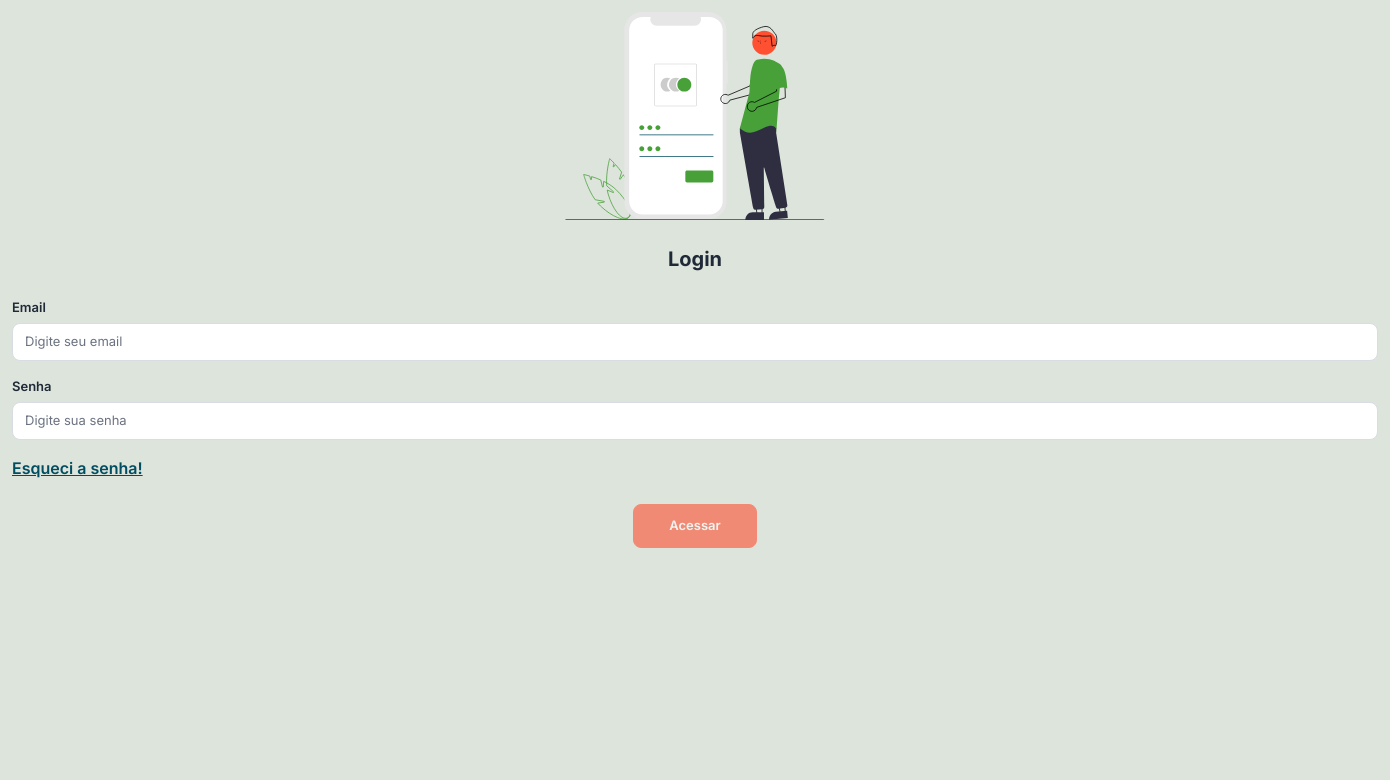
Scenario: LoginForm › fecha o alerta manualmente
Type "user@mail.com" into the field labelled "Email".
click(695, 342); type("user@mail.com")  # box left=12, top=323, right=1378, bottom=361
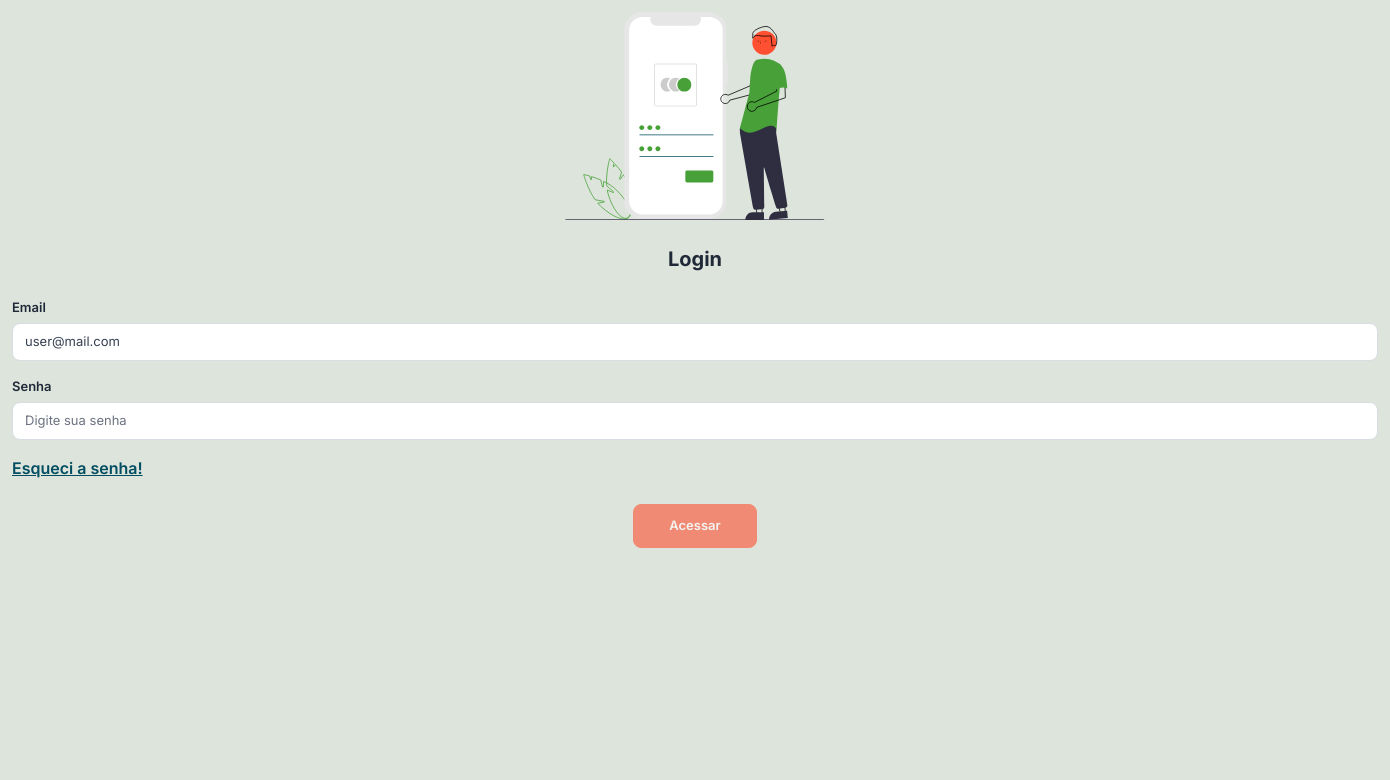
Type "12345678" into the password field labelled "Senha".
click(695, 421); type("12345678")  # box left=12, top=402, right=1378, bottom=440
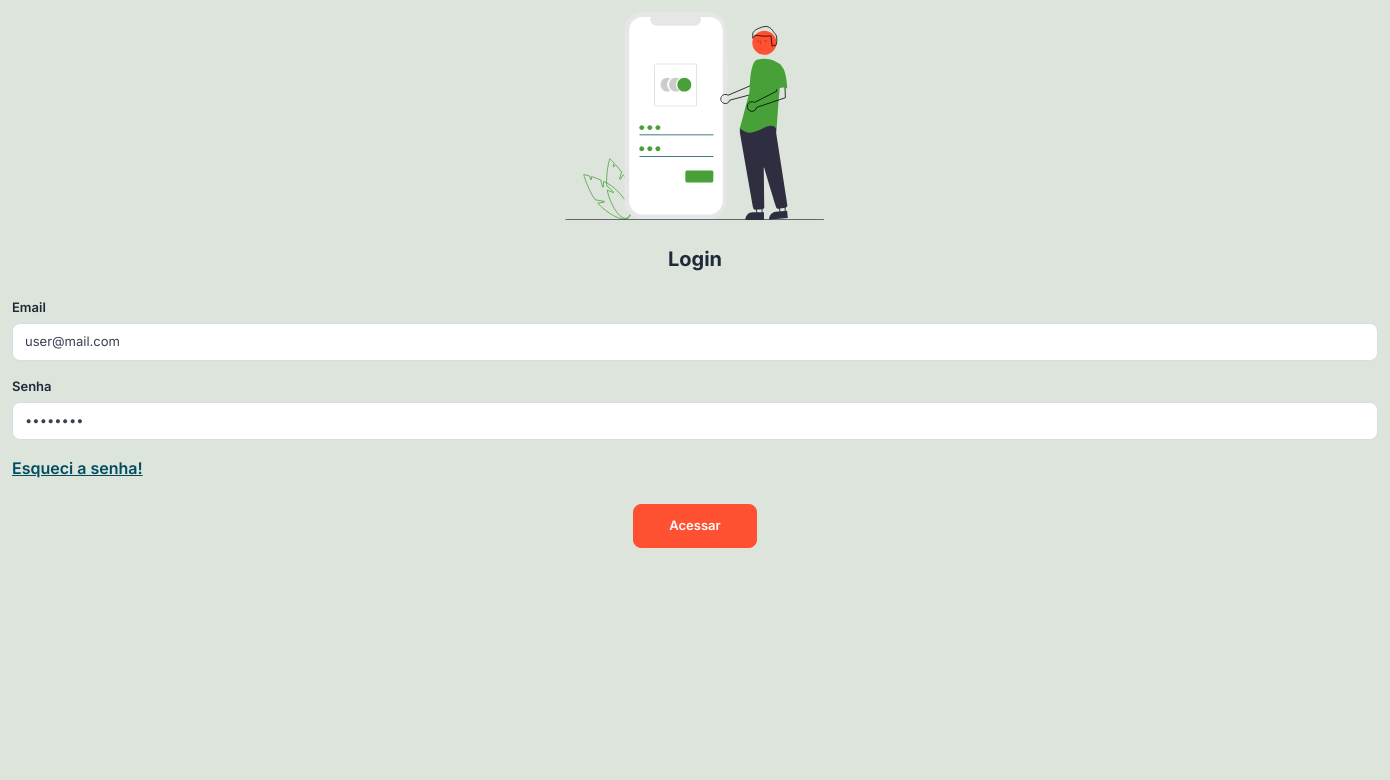
Click the button "Acessar".
click(695, 526)  # box left=633, top=504, right=757, bottom=548
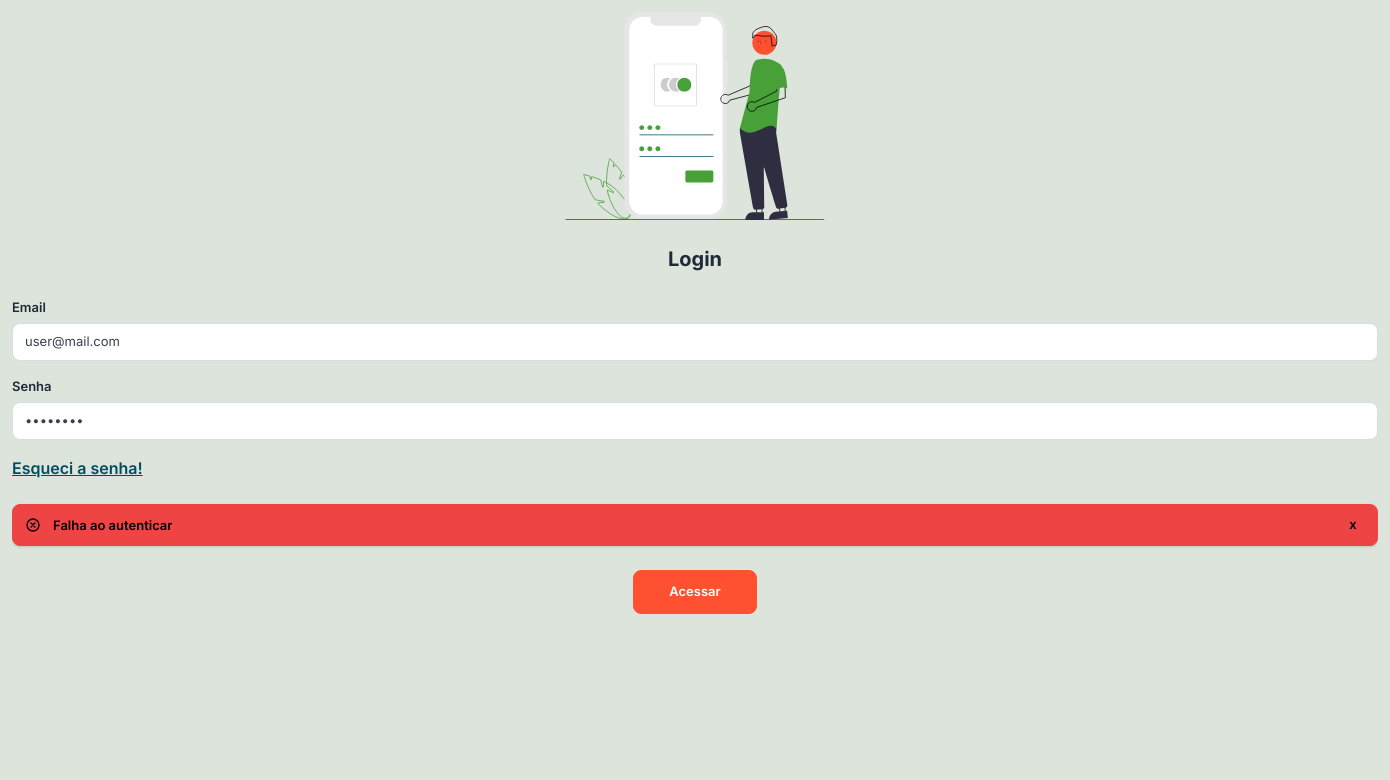
Check: the message shows "Falha ao autenticar", box left=53, top=517, right=172, bottom=533
Click the button named "fechar alerta".
click(1353, 525)  # box left=1341, top=513, right=1365, bottom=537
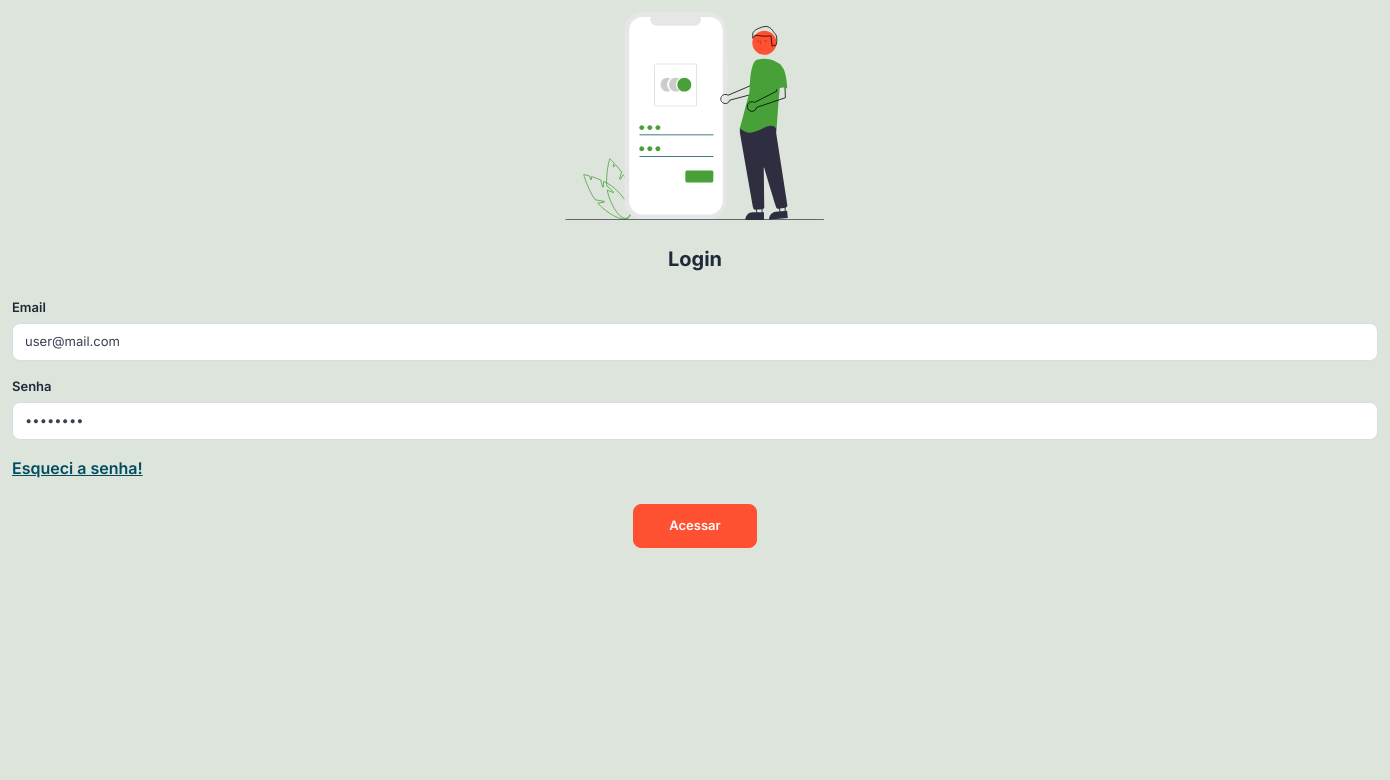
Check: the message "Falha ao autenticar x" is gone
